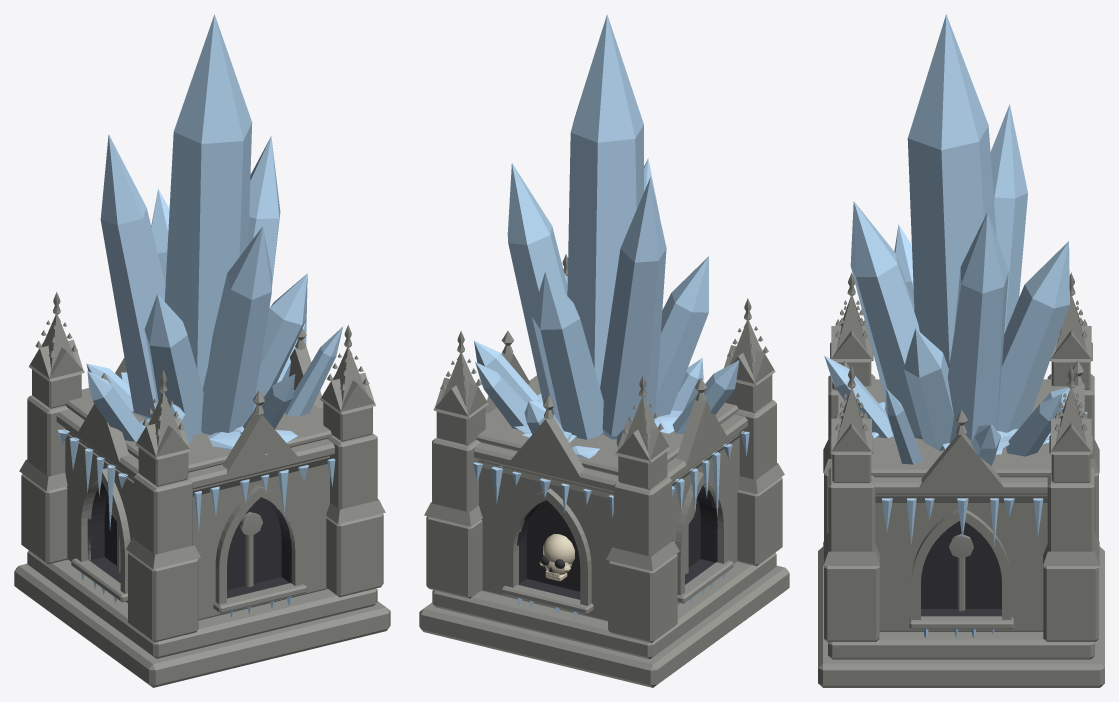
File: tower_frost_2.glb
3 views of the same model, side by side, from view 1: azimuth 30°, elevation 25°; view 2: azimuth 150°, elevation 25°; view 3: azimuth 270°, elevation 25° (orthographic). The views are drawn at different scales.
Parts seen in each view (by area): view 1: tower; view 2: tower; view 3: tower.
Part boxes in pixels (x1,y1,x2,y2): tower: (14,14,390,687); tower: (419,14,789,687); tower: (818,14,1104,687).
Size of the model in its own units: 1.74 by 4.04 by 1.7.
